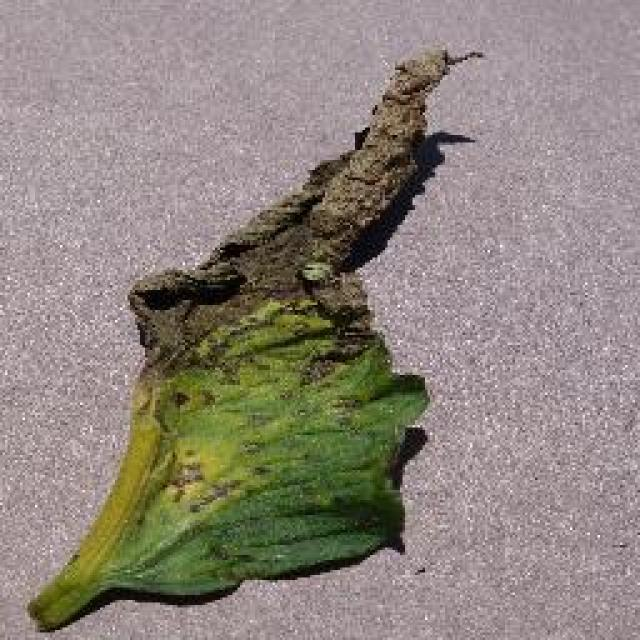Tomato___Septoria_leaf_spot: (28, 48, 478, 628)
